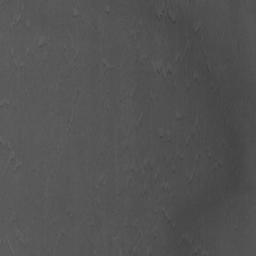Silk spot: (154, 8, 182, 24), (229, 157, 240, 189), (162, 211, 176, 232), (228, 126, 238, 149)
